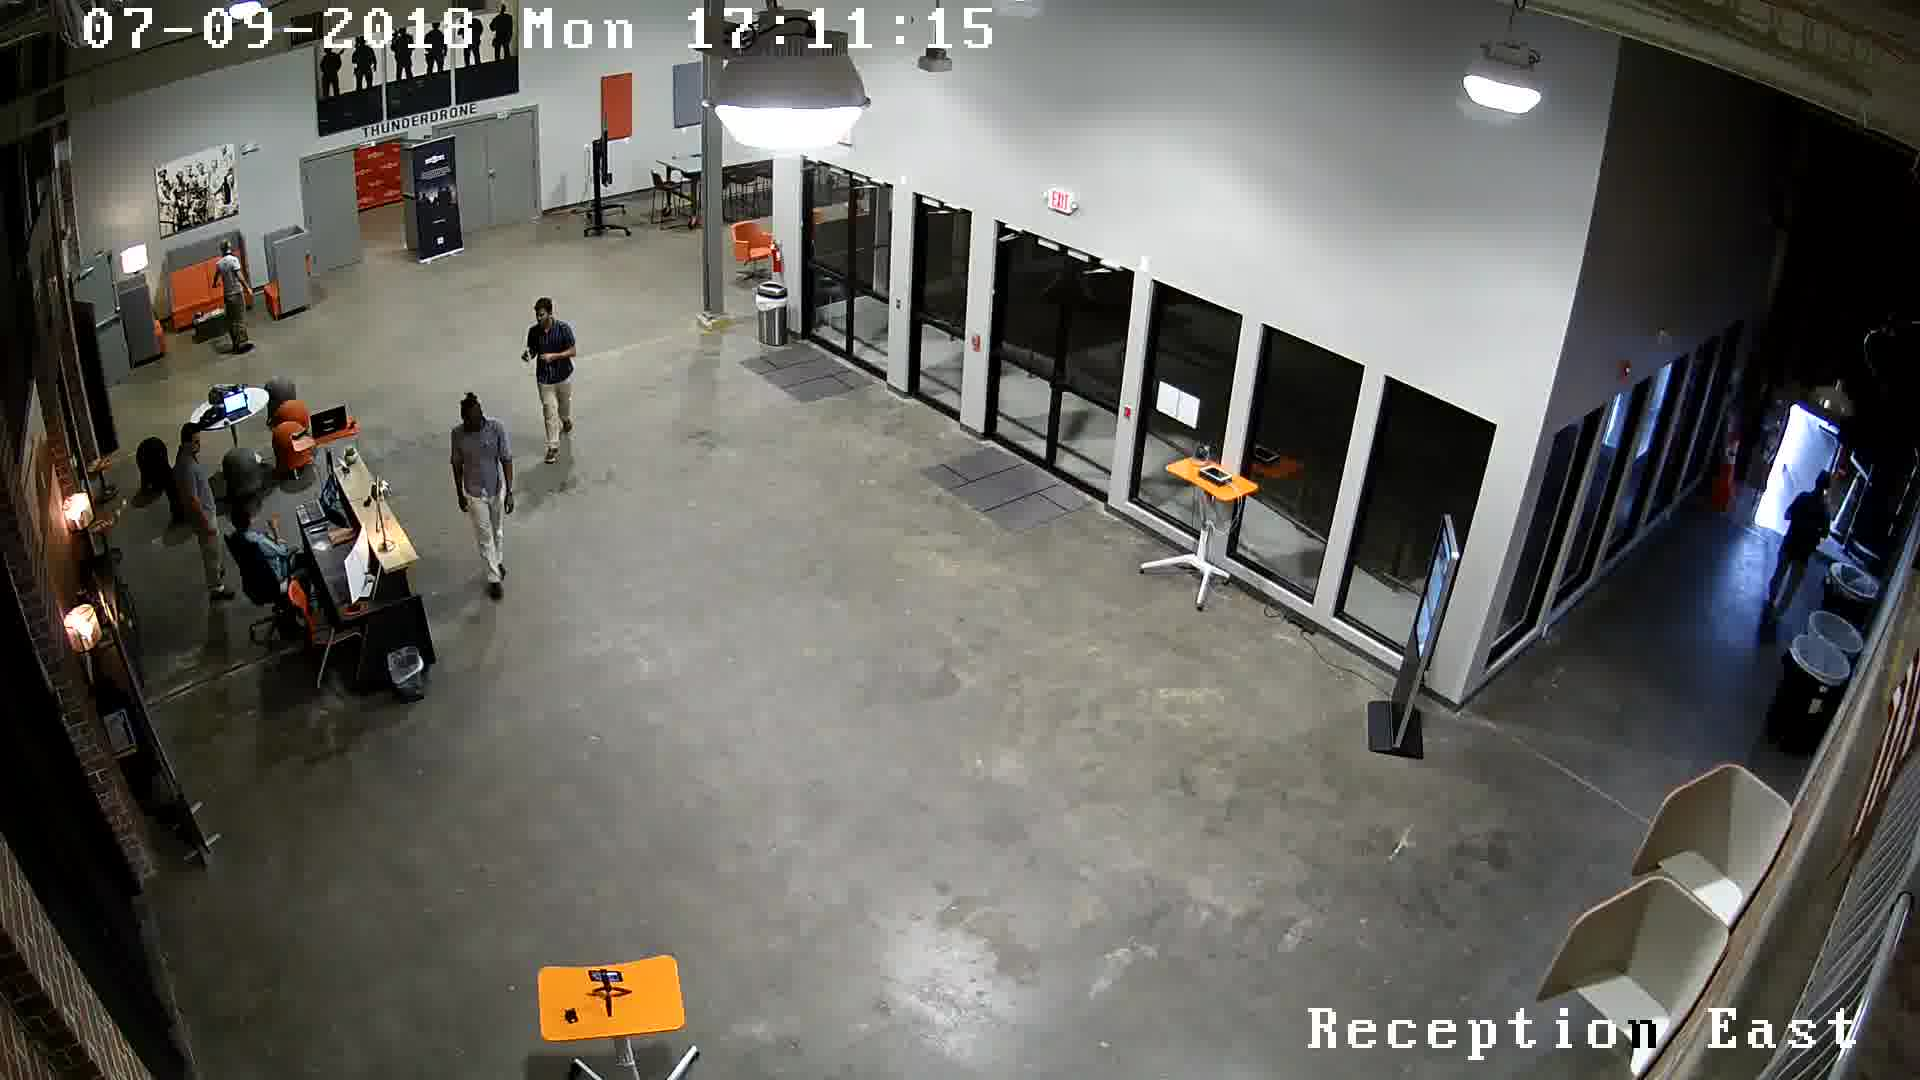pistol: (501, 340, 537, 378)
